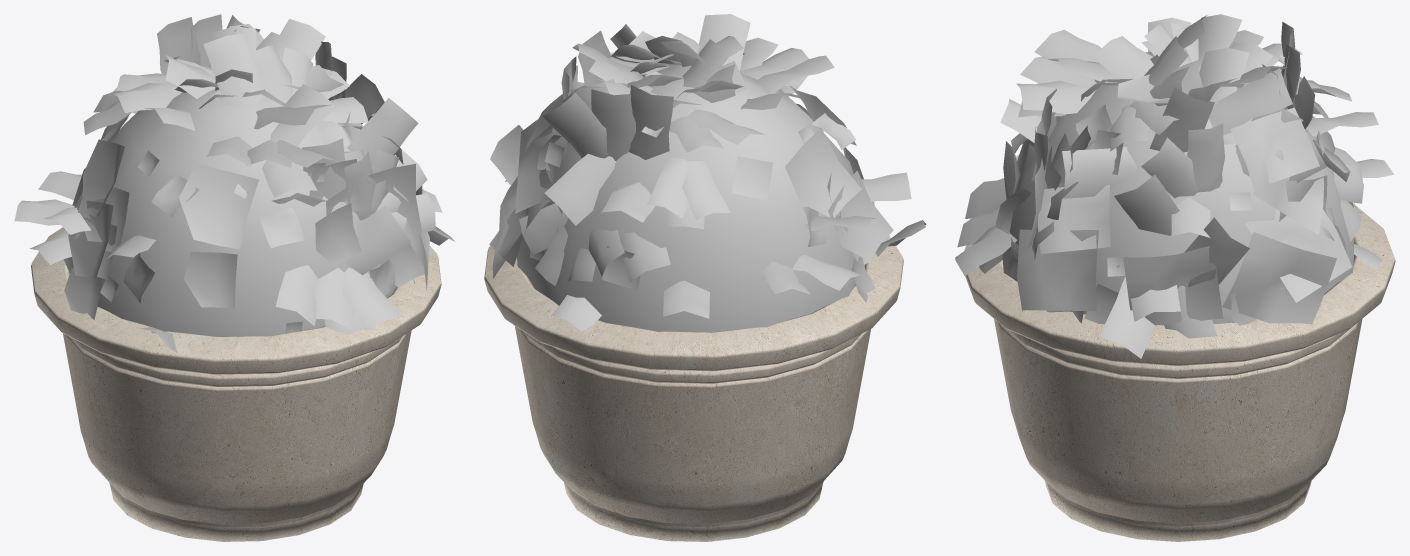
The model's file is chaucay_2.fbx.
3 renders of one model, left to right at view 1: azimuth 30°, elevation 25°; view 2: azimuth 150°, elevation 25°; view 3: azimuth 270°, elevation 25°, orthographic. The views are drawn at different scales.
Visible parts, largest first — view 1: chaucay_B; view 2: chaucay_B; view 3: chaucay_B.
Boxes of the visible parts, x1,y1,x2,y2 form: chaucay_B: [14, 14, 454, 541]; chaucay_B: [484, 14, 926, 541]; chaucay_B: [955, 14, 1395, 541].
Bounding box in the file's own units: 40.37 × 46.51 × 39.61.
